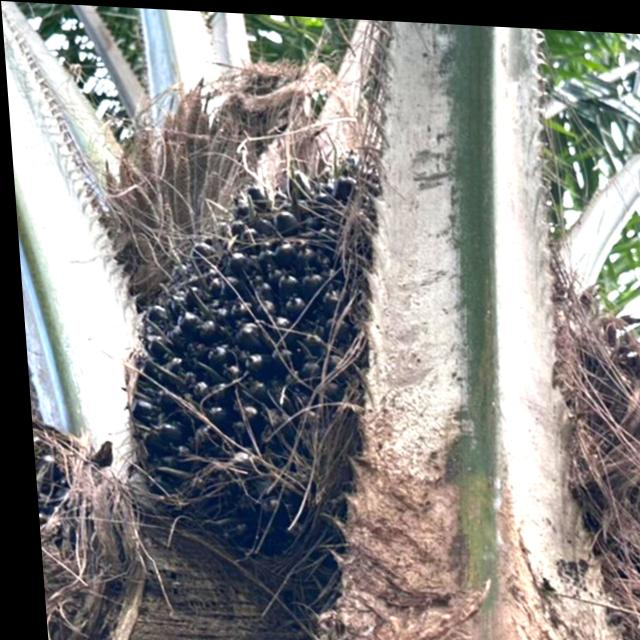unripe: (92, 116, 401, 566)
